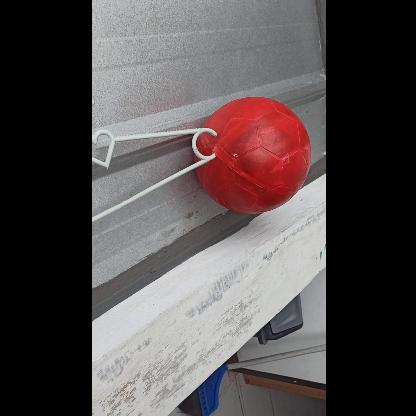red_ball: (193, 96, 310, 214)
